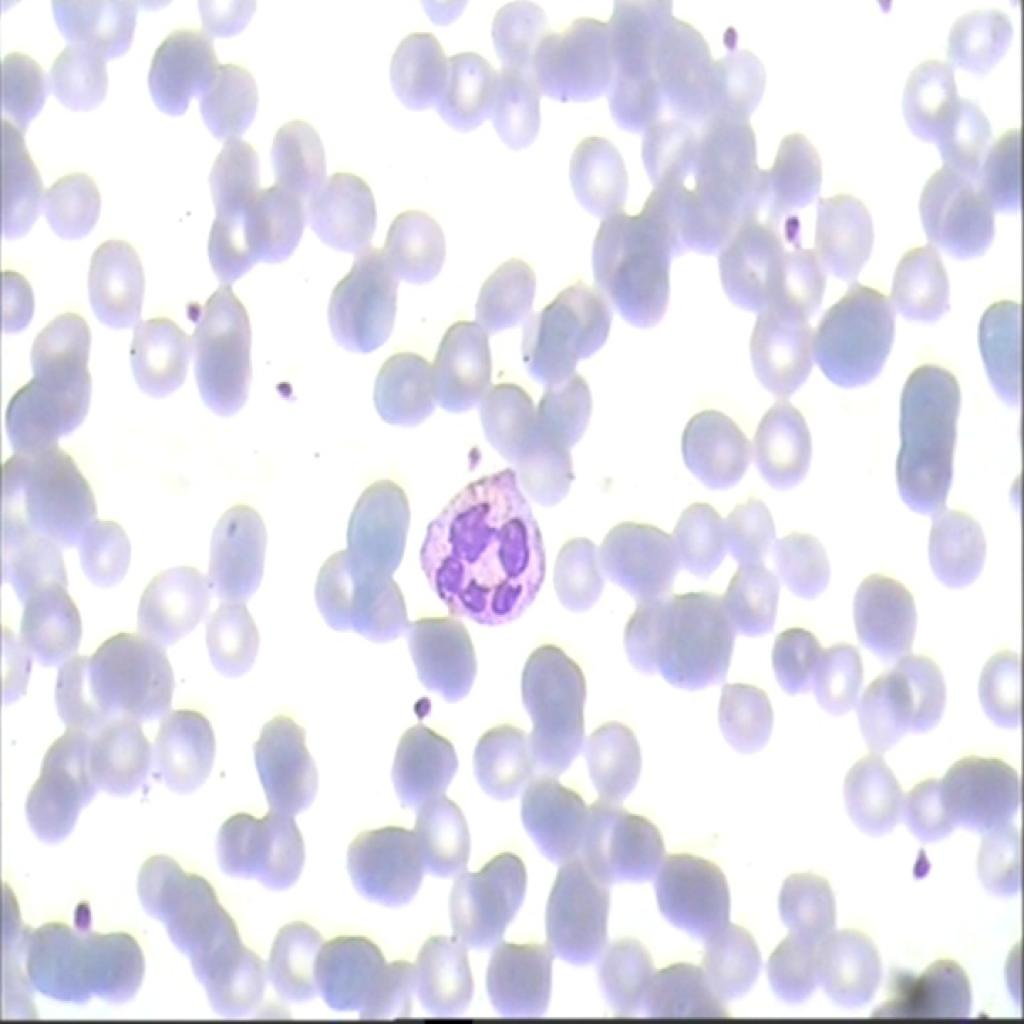Neutrofil: (418, 471, 553, 626)
Platelet: (61, 891, 95, 942), (711, 7, 751, 50), (457, 434, 492, 476), (404, 697, 437, 738), (778, 206, 808, 249), (903, 846, 929, 892), (260, 372, 299, 400), (180, 286, 204, 331)
